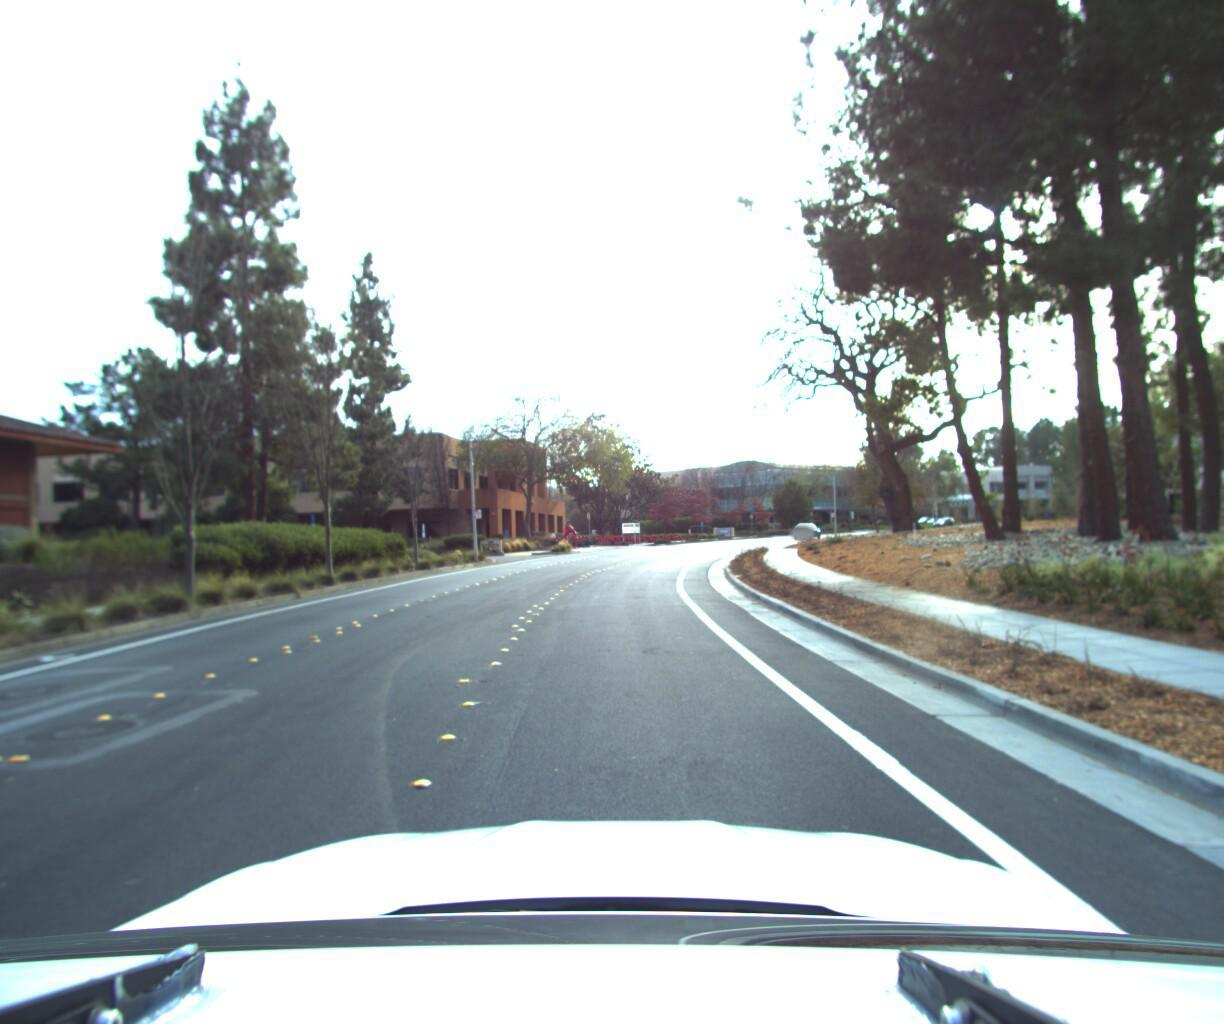car: (792, 519, 824, 538)
